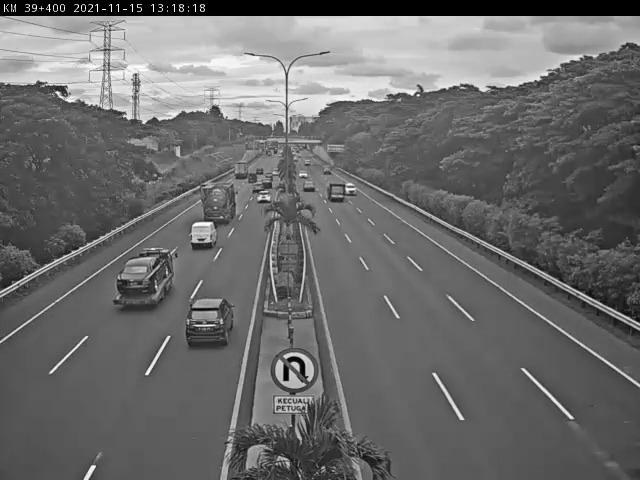bus-s-: (190, 221, 221, 248)
car: (185, 294, 236, 349)
truck-m-: (115, 248, 177, 311)
truck-xl-: (201, 181, 238, 224)
